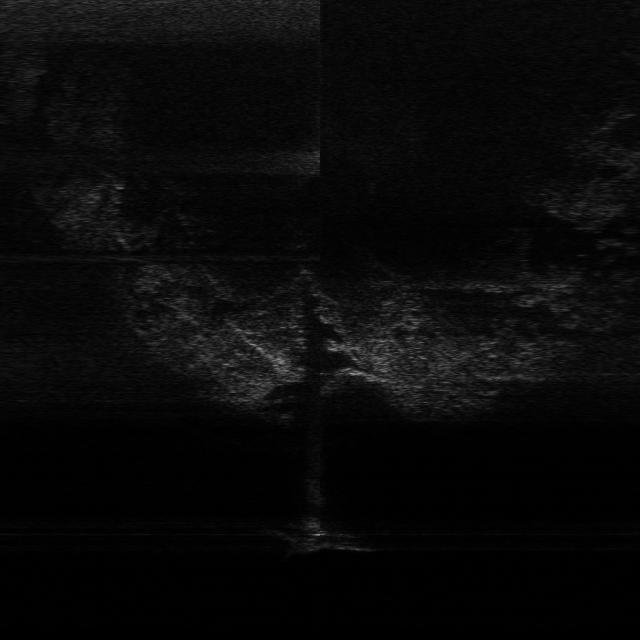plane: (271, 516, 377, 556)
